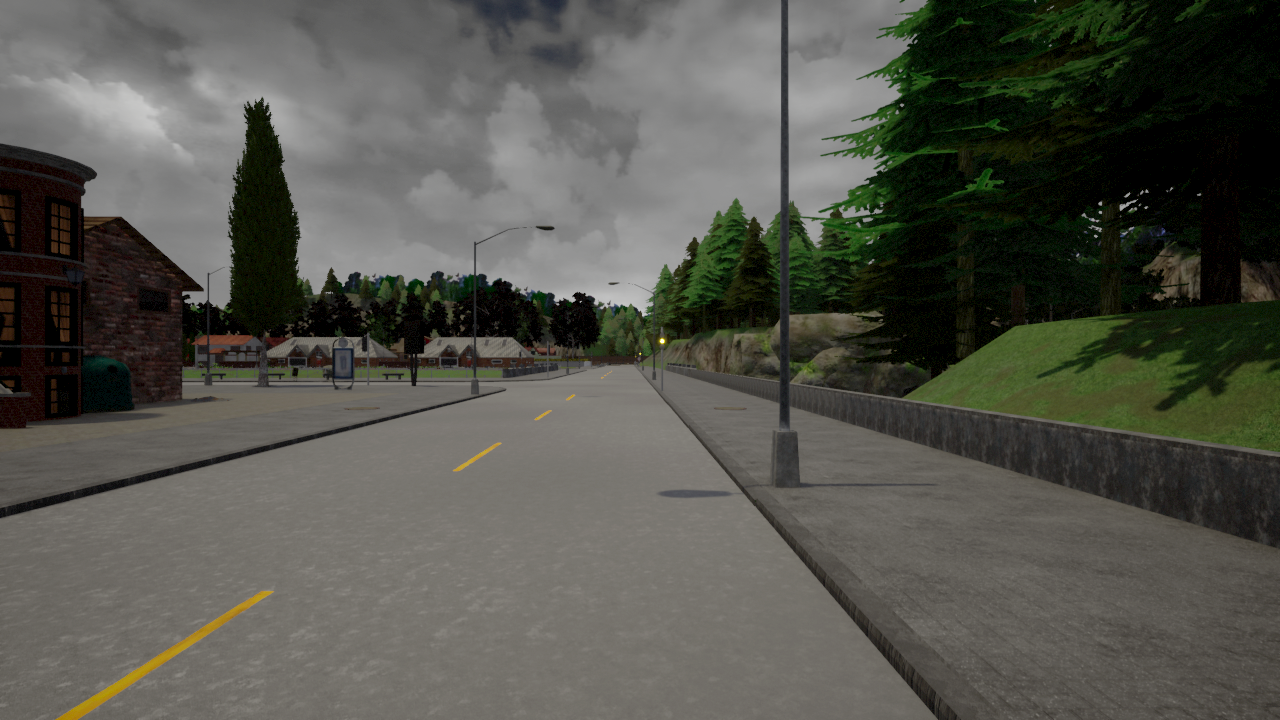yellow: (658, 332, 666, 350)
